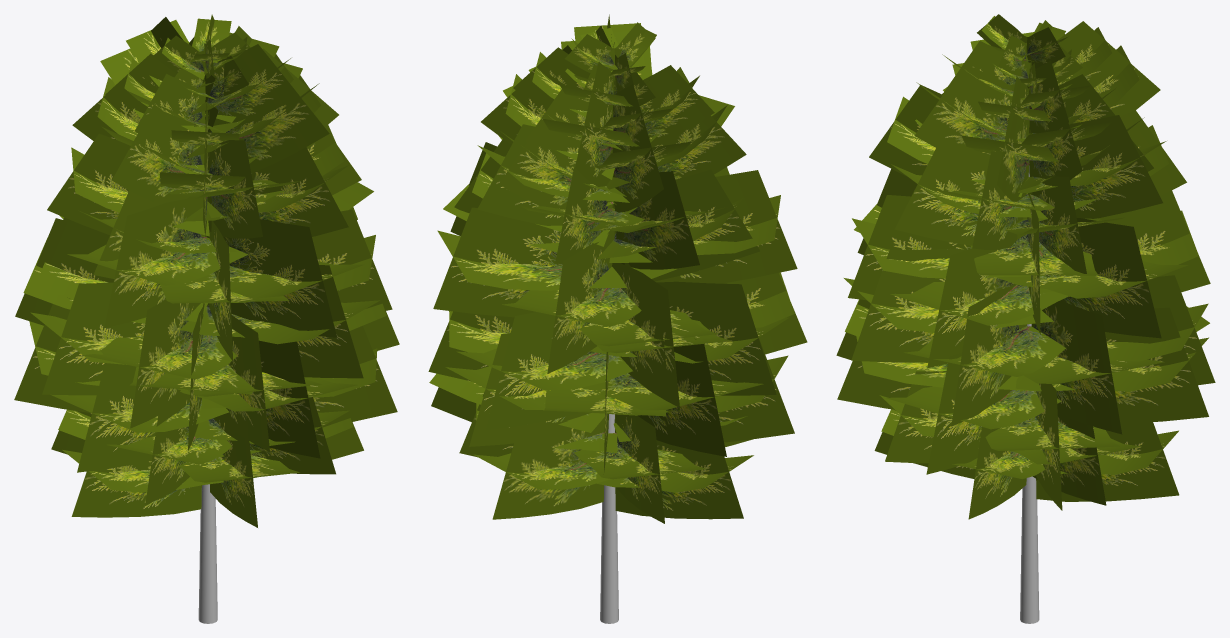
The model's file is Tree 3.fbx.
3 renders of one model, left to right at view 1: azimuth 30°, elevation 25°; view 2: azimuth 150°, elevation 25°; view 3: azimuth 270°, elevation 25°, orthographic.
Visible parts, largest first — view 1: Plane052, Plane051, Plane048, Plane040, Plane015, Plane041, Plane049, Plane023, Plane058, Plane001, Plane066, Plane055 (+34 smaller); view 2: Plane021, Plane014, Plane071, Plane015, Plane072, Plane054, Plane051, Plane022, Plane001, Plane043, Plane026, Plane058 (+27 smaller); view 3: Plane021, Plane050, Plane017, Plane020, Plane023, Plane049, Plane018, Plane057, Plane074, Plane014, Plane052, Plane063 (+29 smaller).
Boxes of the visible parts, left/top/right/bottom form: Plane052: left=191, top=219, right=364, bottom=337; Plane051: left=67, top=196, right=247, bottom=327; Plane048: left=83, top=299, right=236, bottom=428; Plane040: left=50, top=363, right=229, bottom=472; Plane015: left=30, top=282, right=145, bottom=395; Plane041: left=180, top=340, right=357, bottom=458; Plane049: left=180, top=265, right=379, bottom=378; Plane023: left=183, top=147, right=348, bottom=236; Plane058: left=47, top=133, right=209, bottom=236; Plane001: left=62, top=450, right=223, bottom=517; Plane066: left=102, top=105, right=212, bottom=204; Plane055: left=168, top=140, right=299, bottom=238; Plane021: left=433, top=207, right=626, bottom=317; Plane014: left=473, top=417, right=610, bottom=519; Plane071: left=456, top=312, right=632, bottom=429; Plane015: left=590, top=281, right=789, bottom=395; Plane072: left=582, top=339, right=763, bottom=456; Plane054: left=502, top=230, right=641, bottom=373; Plane051: left=609, top=170, right=797, bottom=283; Plane022: left=579, top=263, right=717, bottom=398; Plane001: left=596, top=419, right=753, bottom=519; Plane043: left=574, top=414, right=706, bottom=523; Plane026: left=597, top=170, right=759, bottom=281; Plane058: left=590, top=171, right=724, bottom=269; Plane021: left=997, top=218, right=1188, bottom=338; Plane050: left=1023, top=301, right=1164, bottom=434; Plane017: left=904, top=284, right=1065, bottom=426; Plane020: left=890, top=234, right=1068, bottom=368; Plane023: left=891, top=141, right=1047, bottom=245; Plane049: left=844, top=249, right=1053, bottom=362; Plane018: left=1015, top=307, right=1208, bottom=424; Plane057: left=1018, top=115, right=1166, bottom=218; Plane074: left=886, top=352, right=1061, bottom=474; Plane014: left=1036, top=422, right=1179, bottom=501; Plane052: left=848, top=195, right=1044, bottom=300; Plane063: left=914, top=63, right=1025, bottom=147.
Bounding box in the file's own units: 224 × 221 × 385.
